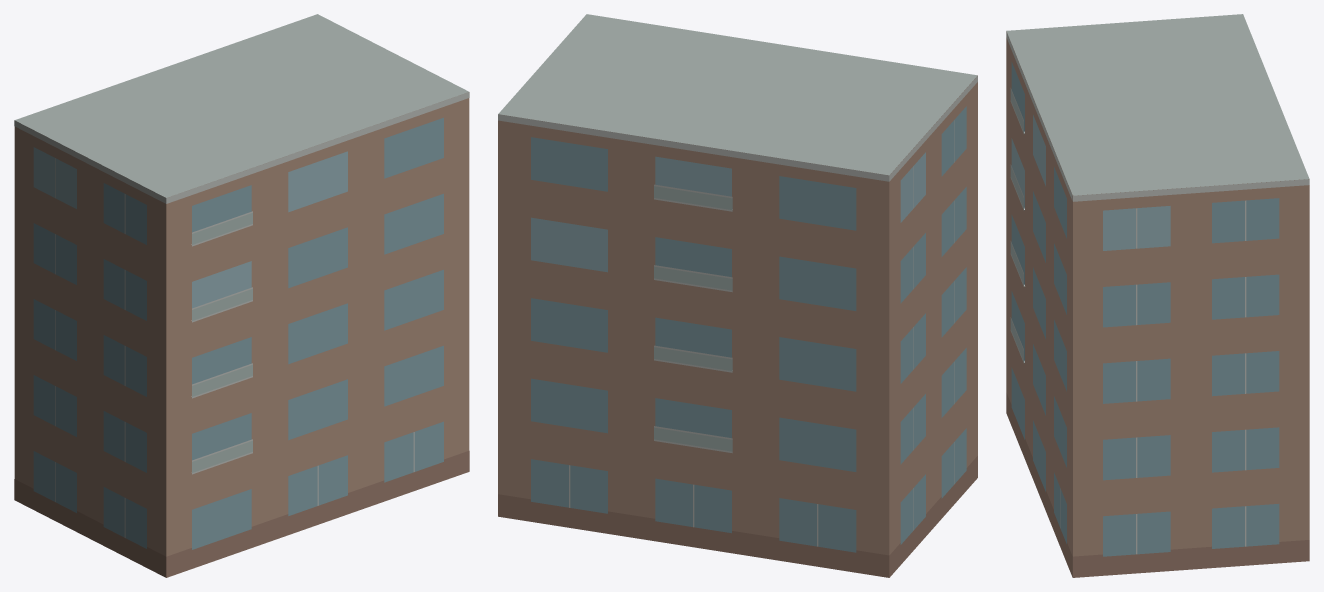
The model's file is survey-upis-32531377.glb.
The picture shows the model from 3 angles, left to right: view 1: azimuth 30°, elevation 25°; view 2: azimuth 150°, elevation 25°; view 3: azimuth 270°, elevation 25°; orthographic projection. The views are drawn at different scales.
Visible parts, largest first — view 1: survey-upis-32531377.tmp; view 2: survey-upis-32531377.tmp; view 3: survey-upis-32531377.tmp.
Boxes of the visible parts, x1=… form: survey-upis-32531377.tmp: x1=14, y1=14, x2=469, y2=577; survey-upis-32531377.tmp: x1=498, y1=14, x2=977, y2=577; survey-upis-32531377.tmp: x1=1006, y1=14, x2=1309, y2=577.
Bounding box in the file's own units: 15.72 × 15.4 × 11.09.
